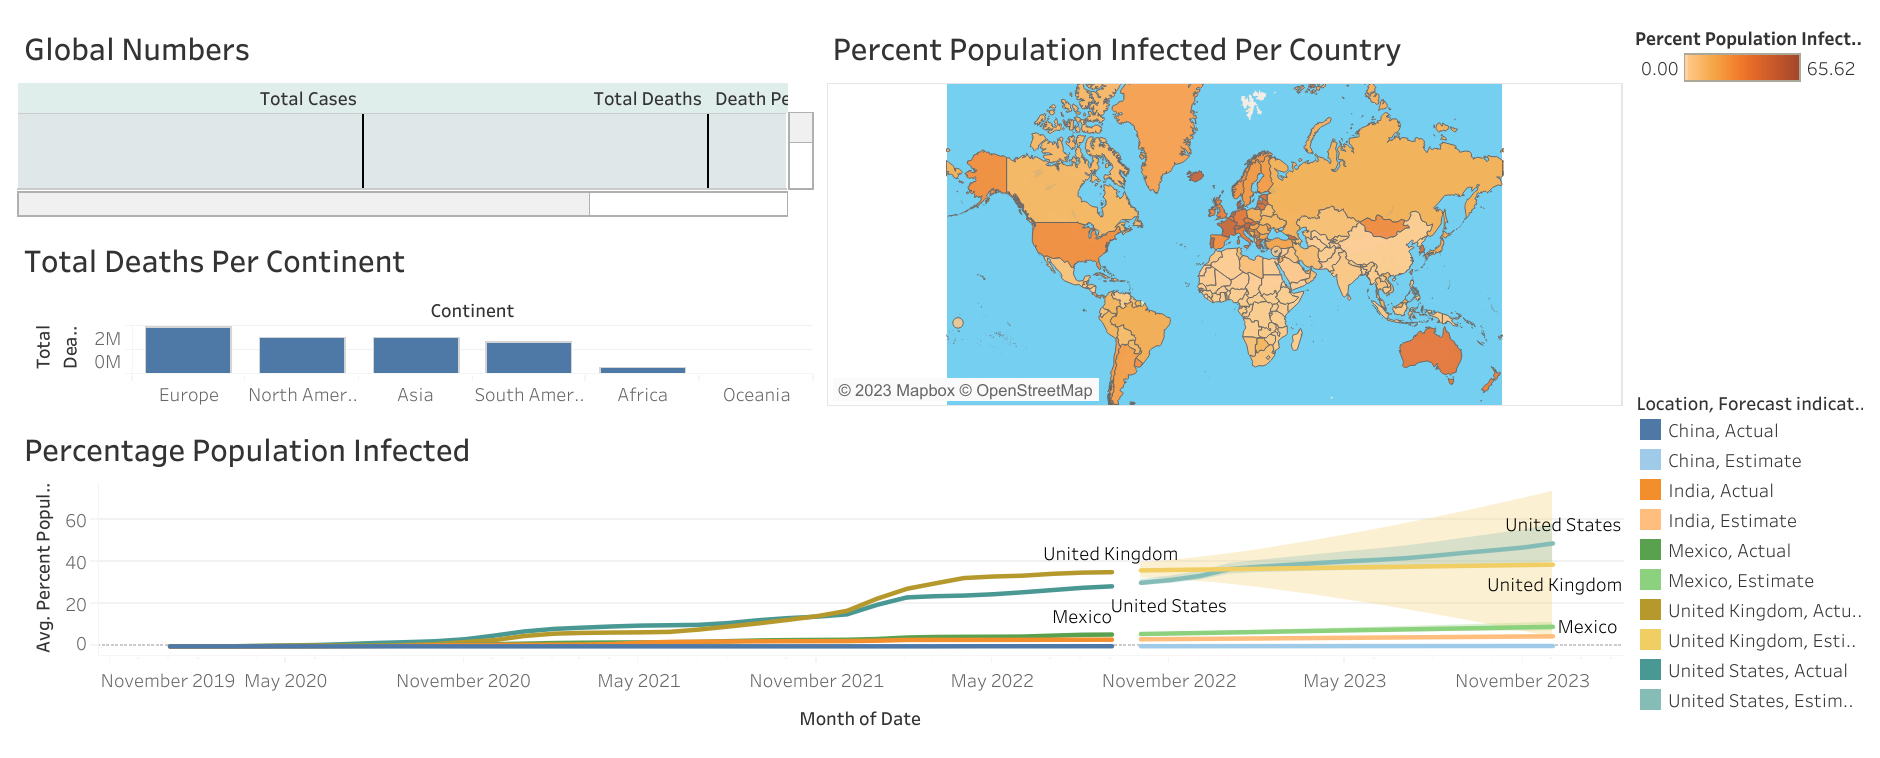

The page's visual inventory and layout, read from the dashboard file:
{"tool":"tableau","page":{"name":"Dashboard 1","canvas":[1000,1000],"units":"permille","ordinal":0},"visuals":[{"type":"worksheet","title":"Sheet 1","mark":"Automatic","box":[5,9.9,445.1,282.9]},{"type":"worksheet","title":"Sheet 3","mark":"Automatic","box":[450.1,9.9,445.1,533.5]},{"type":"legend","title":"Sheet 3","param":"[federated.0m9g75c193q26516d6uzo0atvrpk].[sum:PercentPopulationInfected:qk]","box":[895.3,9.9,99.8,100.5]},{"type":"worksheet","title":"Sheet 2","mark":"Automatic","rows":["TotalDeathCount"],"cols":["location"],"box":[5,292.8,445.1,250.6]},{"type":"legend","title":"Sheet 4","param":"[federated.1ay393m0lrkw9b16srim60e9s3l7].[none:Location:nk]\n[federated.1ay393m0l","box":[895.3,500,99.8,352.4]},{"type":"worksheet","title":"Sheet 4","mark":"Automatic","rows":["PercentPopulationInfected"],"cols":["date"],"box":[5,543.4,890.3,446.7]}]}

Visuals, with their boxes on the dashboard's canvas, which has no fixed pixel size, in thousandths of its width and height (x1, y1, x2, y2). These are canvas units, not pixel positions in the 1880x758 screenshot, which may show the page scaled, cropped or inside an application window:
"Sheet 1" worksheet: [left=5, top=10, right=450, bottom=293]
"Sheet 3" worksheet: [left=450, top=10, right=895, bottom=543]
"Sheet 3" legend: [left=895, top=10, right=995, bottom=110]
"Sheet 2" worksheet: [left=5, top=293, right=450, bottom=543]
"Sheet 4" legend: [left=895, top=500, right=995, bottom=852]
"Sheet 4" worksheet: [left=5, top=543, right=895, bottom=990]
